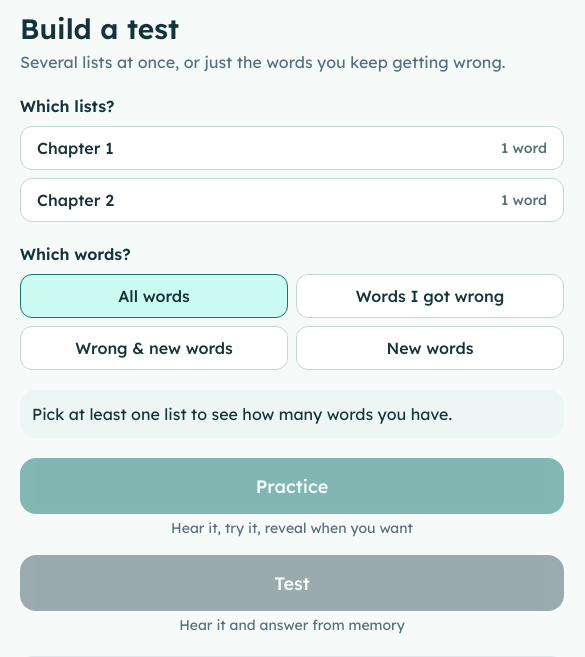
Test case: the pool › explains an empty misses pool rather than showing a bare zero
Click the button "Chapter 1 1 word" at x=75, y=148, box x1=20 y1=126 x2=564 y2=170
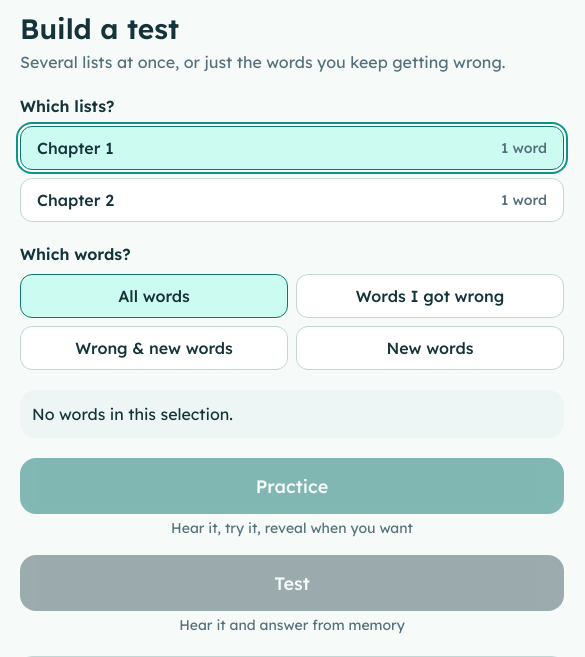
Click the button "Words I got wrong" at x=430, y=296, box x1=296 y1=274 x2=564 y2=318
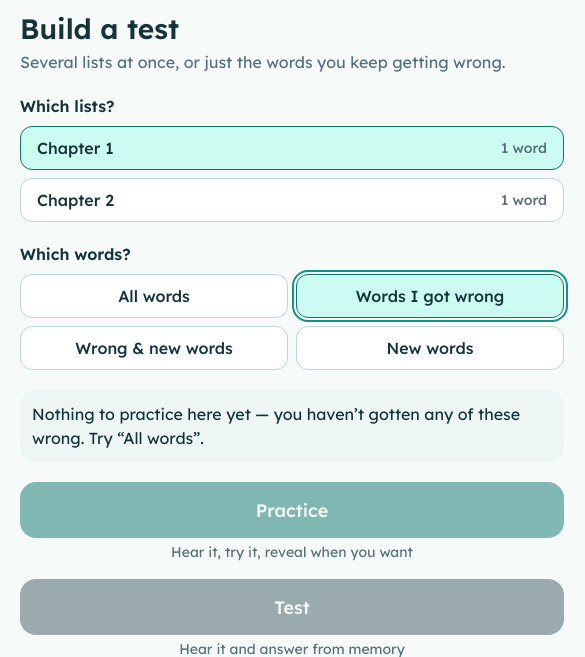
Expected: the message shows "haven’t gotten any of these wrong", x1=32 y1=404 x2=520 y2=448
